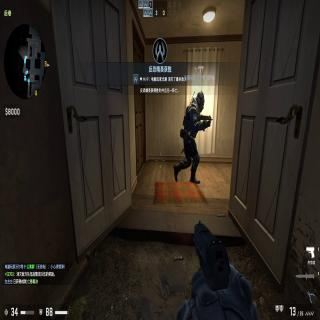CT-Body: (172, 91, 214, 186)
CT-Head: (196, 92, 204, 110)
